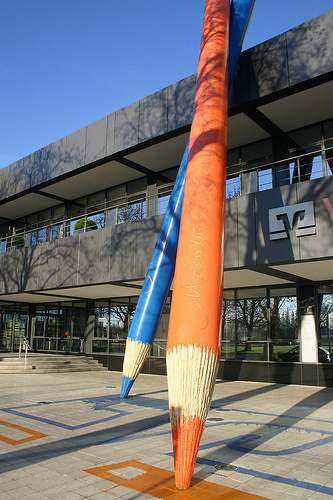pen_tip: (156, 329, 224, 494), (115, 322, 156, 406)
